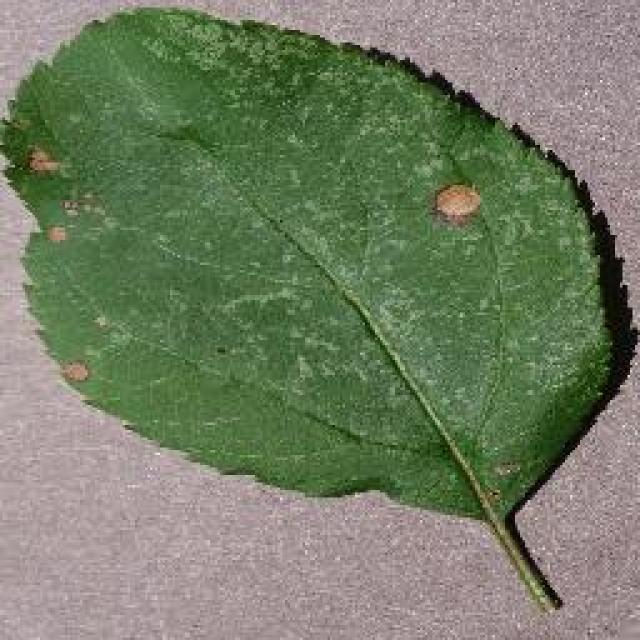apple healthy: (0, 2, 635, 612)
